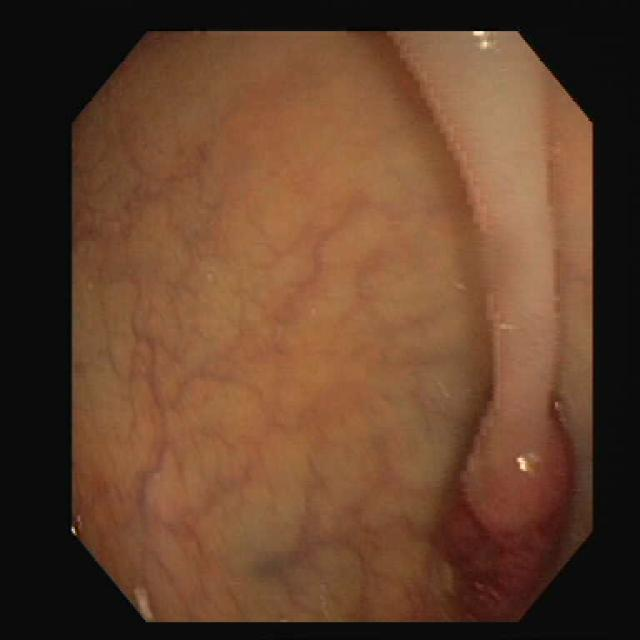tumor: (443, 380, 590, 569)
